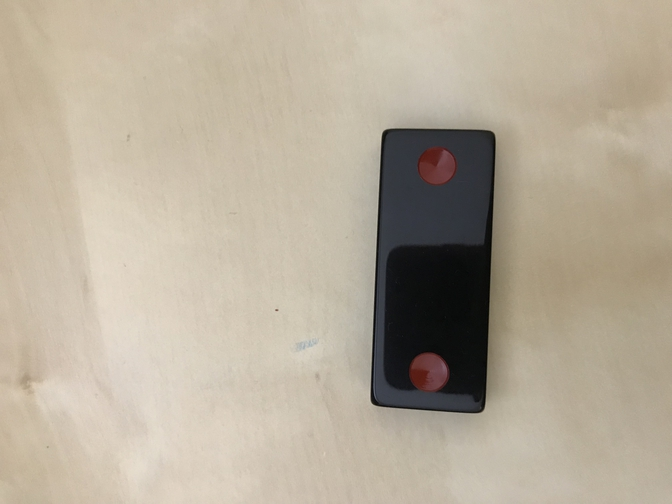earth: (370, 128, 496, 414)
